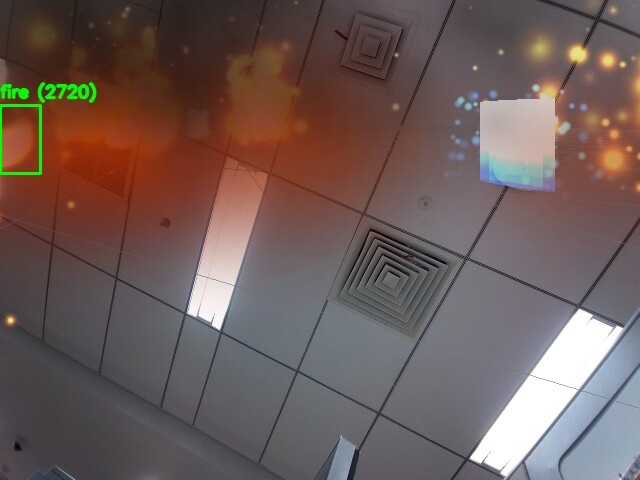fire: (0, 105, 40, 173)
